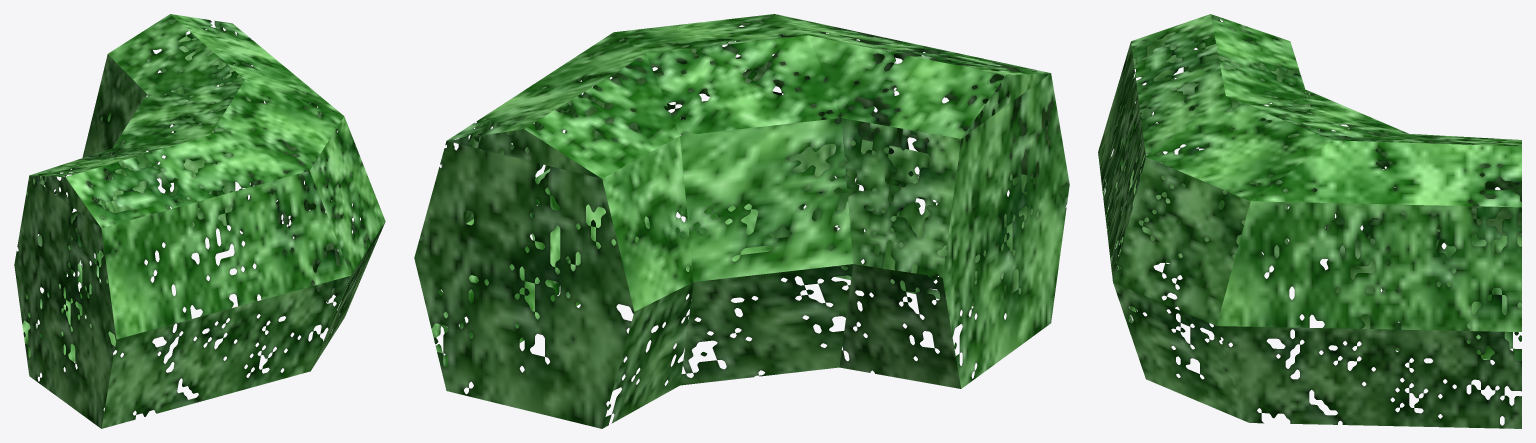
File: bush_round_corner_spring.fbx
The picture shows the model from 3 angles, left to right: view 1: azimuth 30°, elevation 25°; view 2: azimuth 150°, elevation 25°; view 3: azimuth 270°, elevation 25°; orthographic projection. The views are drawn at different scales.
Parts seen in each view (by area): view 1: bush_round_corner_spring; view 2: bush_round_corner_spring; view 3: bush_round_corner_spring.
Part boxes in pixels (x1,y1,x2,y2): bush_round_corner_spring: (14, 14, 385, 428); bush_round_corner_spring: (414, 14, 1069, 428); bush_round_corner_spring: (1098, 14, 1521, 428).
Size of the model in its own units: 136 by 87.65 by 135.
Materials: 1 (1 with a texture image).
